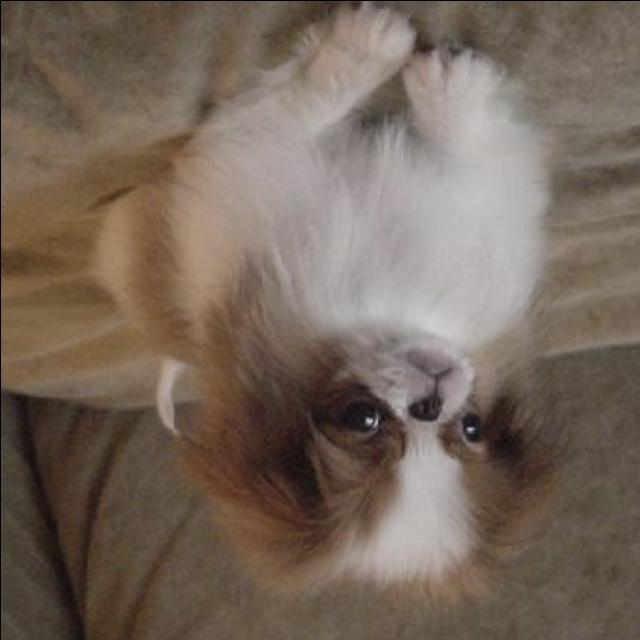husky: (90, 6, 568, 613)
